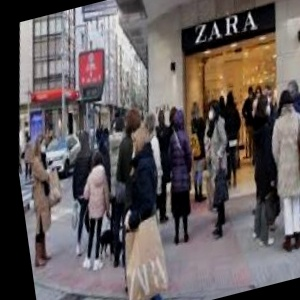zara: (135, 0, 300, 52)
